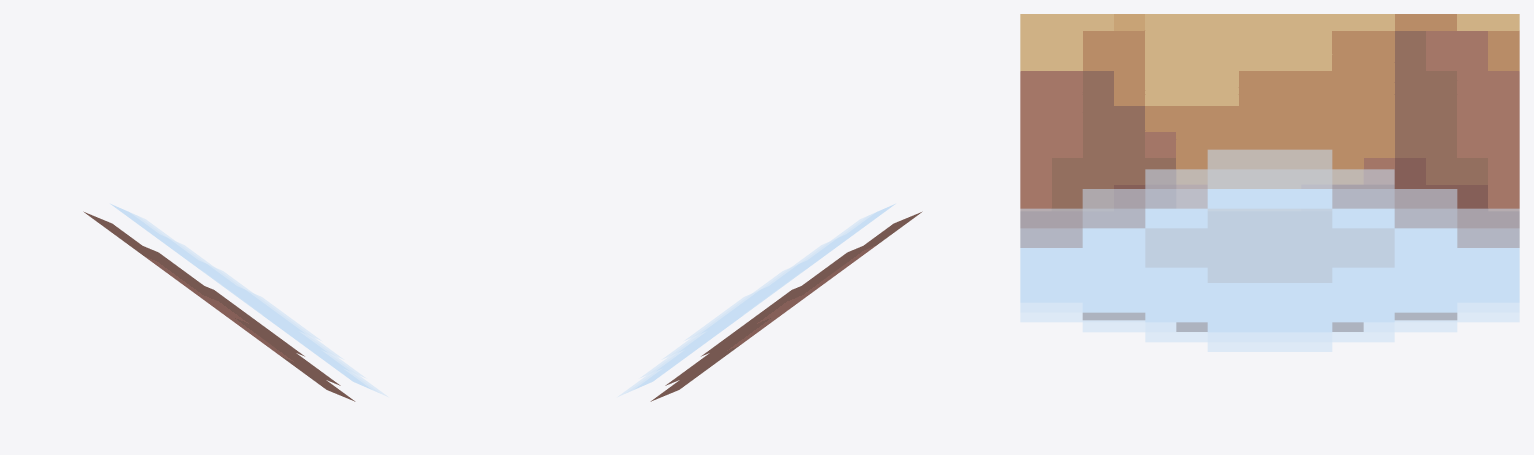
3 renders of one model, left to right at view 1: azimuth 30°, elevation 25°; view 2: azimuth 150°, elevation 25°; view 3: azimuth 270°, elevation 25°, orthographic. The views are drawn at different scales.
Size of the model in its own units: 0.5459 by 0.6892 by 1.
Materials: 2 (2 with a texture image).
